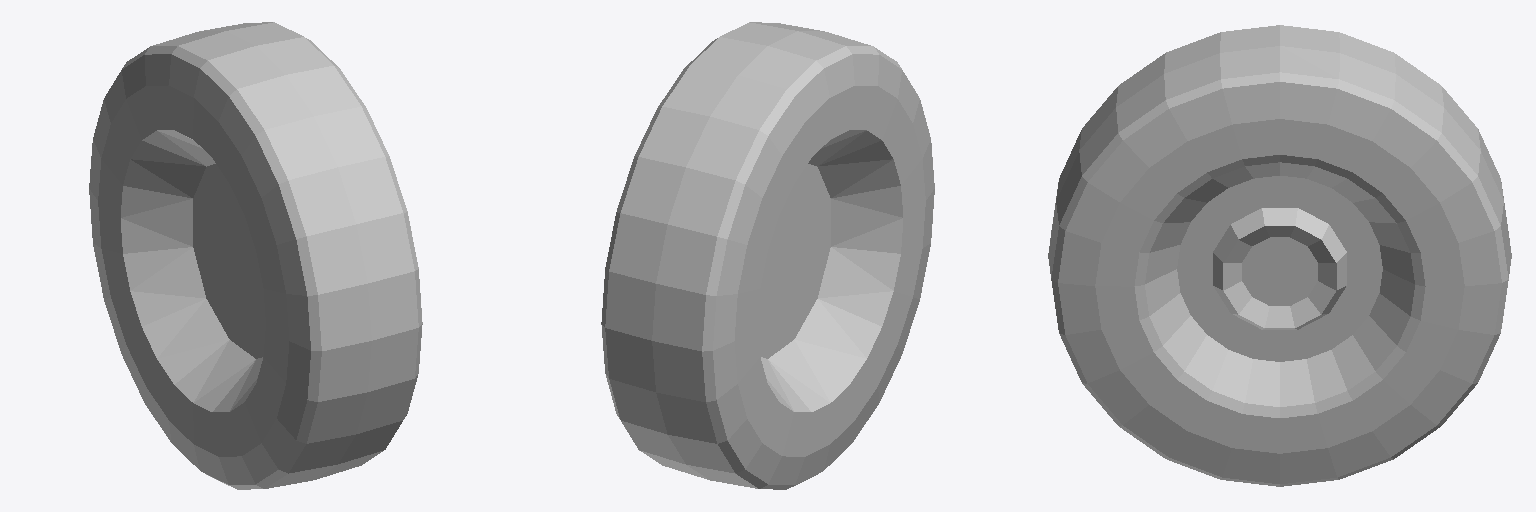
The model's file is BuggyFrontWheel.obj.
The picture shows the model from 3 angles: view 1: azimuth 30°, elevation 25°; view 2: azimuth 150°, elevation 25°; view 3: azimuth 270°, elevation 25°; orthographic projection.
Visible parts, largest first — view 1: BuggyWheels.002; view 2: BuggyWheels.002; view 3: BuggyWheels.002.
Part boxes in pixels (x1,y1,x2,y2): BuggyWheels.002: (89,22,422,489); BuggyWheels.002: (601,22,934,489); BuggyWheels.002: (1048,25,1511,486).
Size of the model in its own units: 0.6051 by 1.94 by 1.94.